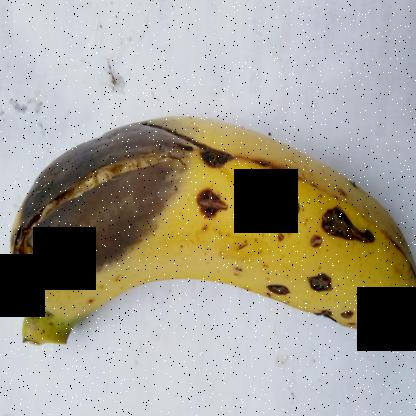rotten: (16, 91, 192, 290), (296, 181, 378, 256), (190, 123, 240, 178), (180, 175, 233, 223), (299, 254, 341, 296), (262, 269, 297, 316), (315, 298, 362, 332)
